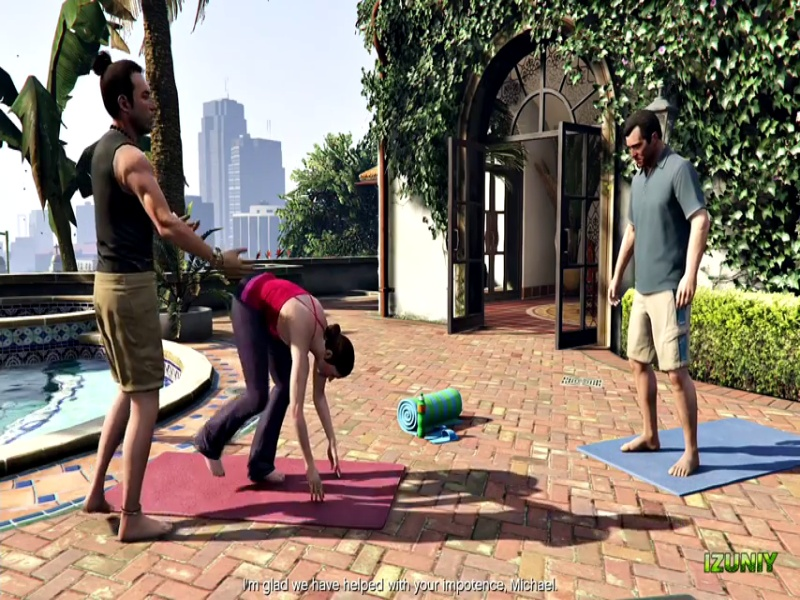human: (613, 100, 704, 470)
